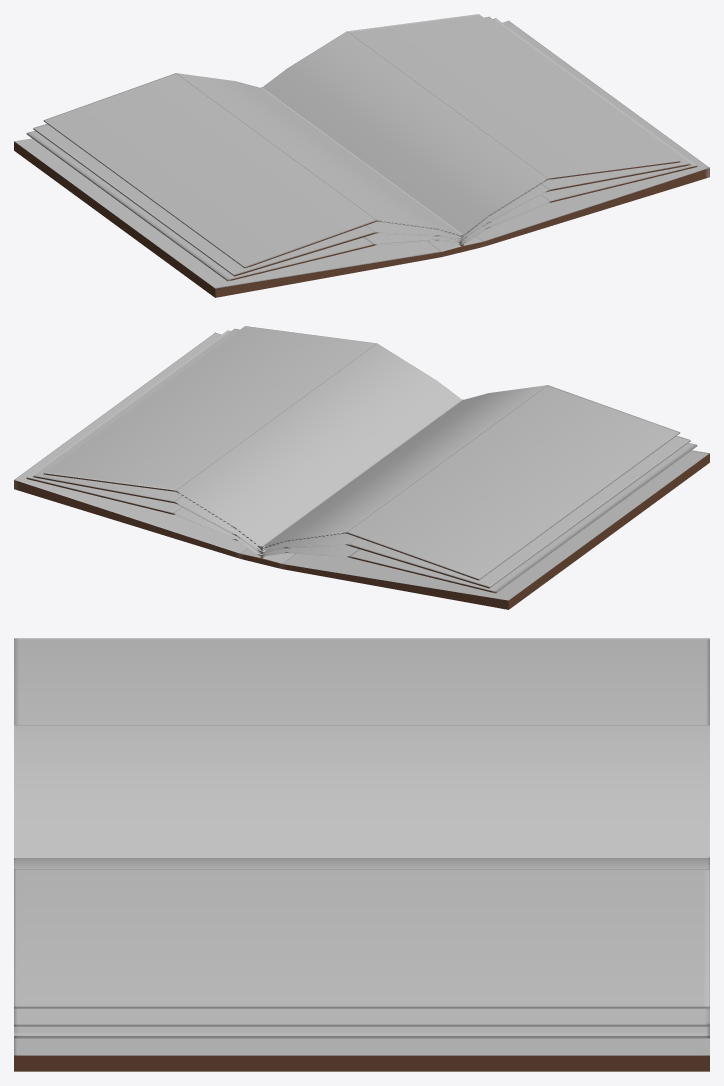
Rendered from Book.fbx.
3 renders of one model, top to bottom at view 1: azimuth 30°, elevation 25°; view 2: azimuth 150°, elevation 25°; view 3: azimuth 270°, elevation 25°, orthographic. The views are drawn at different scales.
Parts seen in each view (by area): view 1: pCube1; view 2: pCube1; view 3: pCube1.
Boxes of the visible parts, box(x1,y1,x2,y2) form: pCube1: box(14, 14, 709, 297); pCube1: box(14, 326, 709, 609); pCube1: box(14, 638, 709, 1071).
Bounding box in the file's own units: 6.42 × 0.6508 × 4.52.
